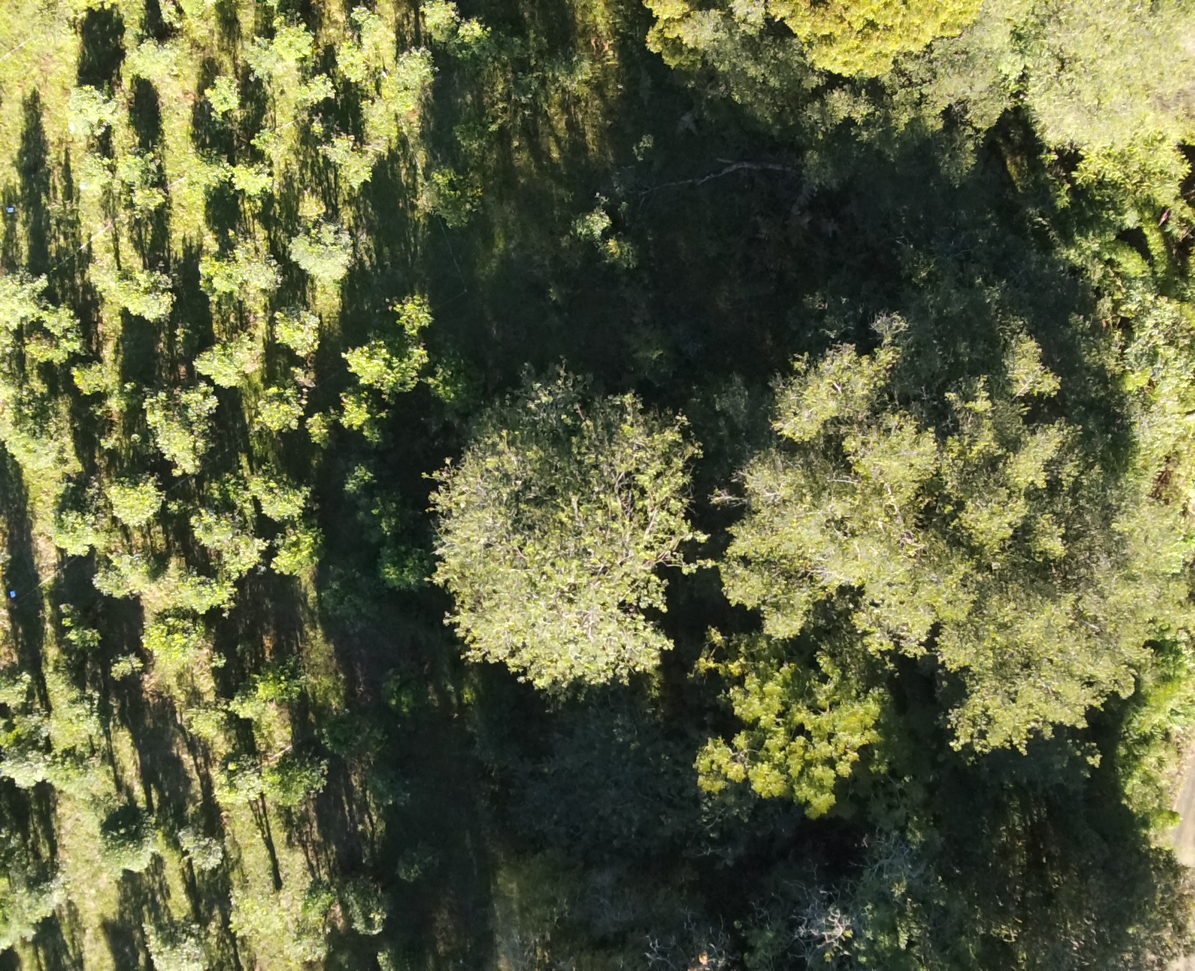erva: (129, 390, 210, 468), (243, 459, 319, 525), (97, 466, 176, 529), (287, 222, 357, 287), (207, 238, 279, 301), (243, 382, 312, 440), (313, 136, 376, 197), (57, 85, 122, 143), (120, 35, 182, 92), (272, 522, 326, 586), (269, 301, 329, 358), (116, 261, 171, 321), (373, 348, 435, 400), (206, 524, 266, 575), (170, 377, 233, 424), (235, 40, 291, 92), (88, 547, 146, 596), (329, 394, 383, 438), (188, 342, 236, 391), (187, 501, 235, 550), (1, 268, 49, 317), (22, 328, 81, 367), (269, 13, 316, 59), (82, 250, 120, 305), (65, 359, 117, 398), (294, 406, 339, 451), (391, 295, 438, 337), (348, 6, 388, 55), (223, 327, 267, 371), (226, 159, 270, 199), (350, 338, 382, 392), (70, 149, 111, 190), (115, 143, 162, 177), (207, 74, 243, 118), (329, 37, 365, 81), (39, 297, 82, 333), (127, 181, 166, 208)
